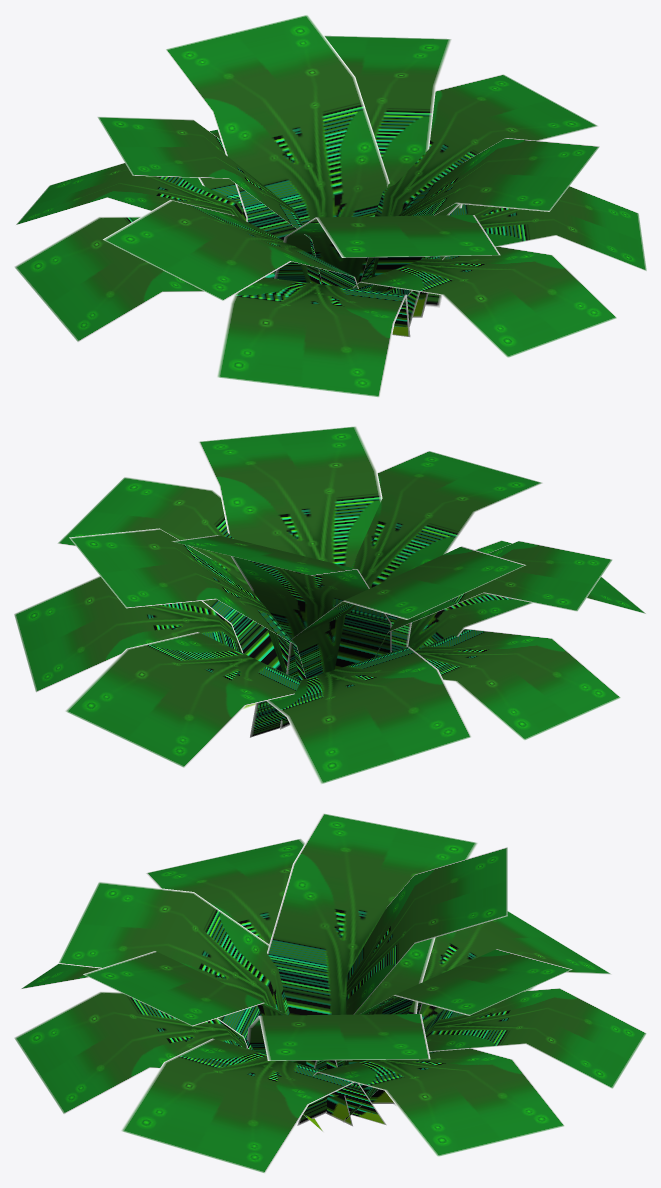
File: SeaWeed_08.FBX
The picture shows the model from 3 angles, top to bottom: view 1: azimuth 30°, elevation 25°; view 2: azimuth 150°, elevation 25°; view 3: azimuth 270°, elevation 25°; orthographic projection. The views are drawn at different scales.
Visible parts, largest first — view 1: SeaWeed_08; view 2: SeaWeed_08; view 3: SeaWeed_08.
Part boxes in pixels (x1,y1,x2,y2): SeaWeed_08: [14, 14, 646, 397]; SeaWeed_08: [14, 426, 645, 784]; SeaWeed_08: [14, 813, 646, 1173].
Bounding box in the file's own units: 47.84 × 18.56 × 48.06.
